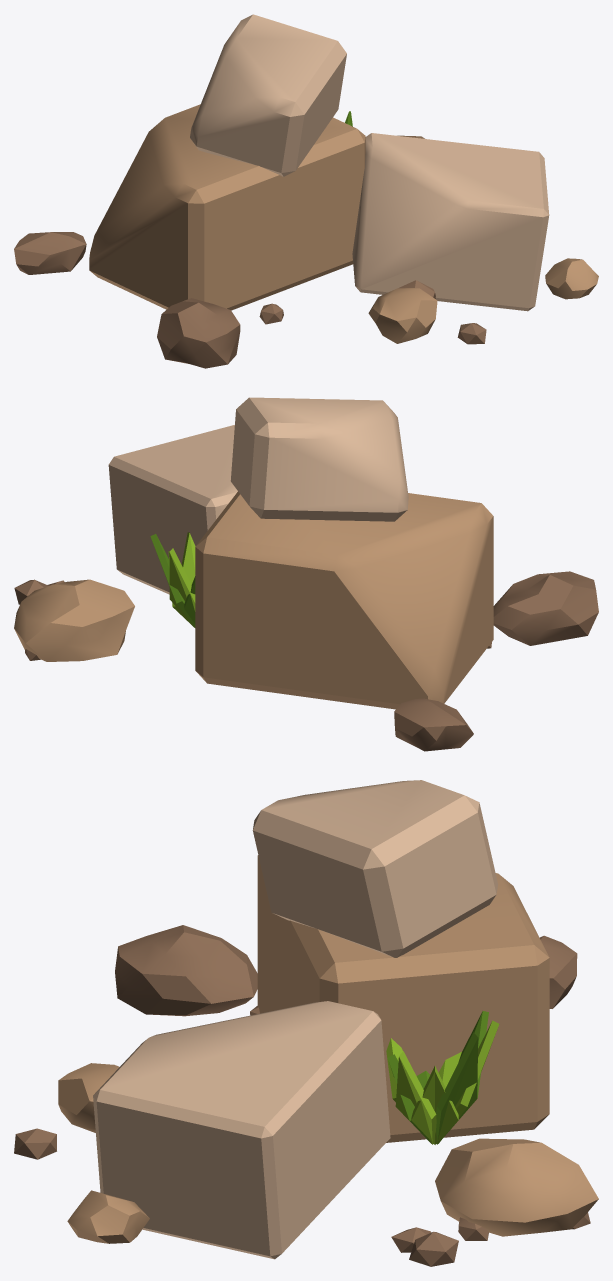
The model's file is rubble__upper.glb.
3 views of the same model, one above another, from view 1: azimuth 30°, elevation 25°; view 2: azimuth 150°, elevation 25°; view 3: azimuth 270°, elevation 25° (orthographic). The views are drawn at different scales.
Visible parts, largest first — view 1: Body; view 2: Body; view 3: Body.
Part boxes in pixels (left/top/right/bottom): Body: left=14, top=14, right=598, bottom=368; Body: left=14, top=397, right=598, bottom=751; Body: left=14, top=780, right=598, bottom=1266.
Bounding box in the file's own units: 0.9172 × 0.4627 × 0.7463.
